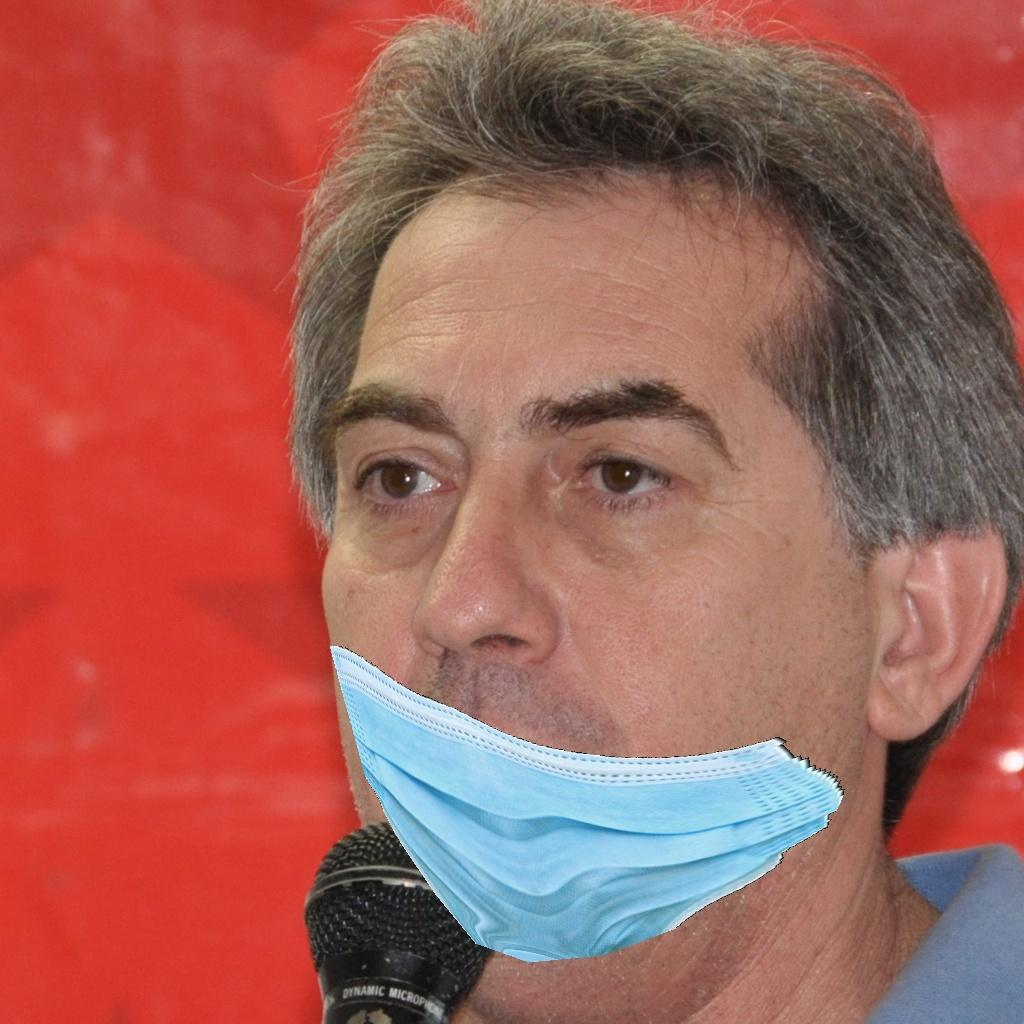Máscara Incorreta: (305, 298, 907, 948)
